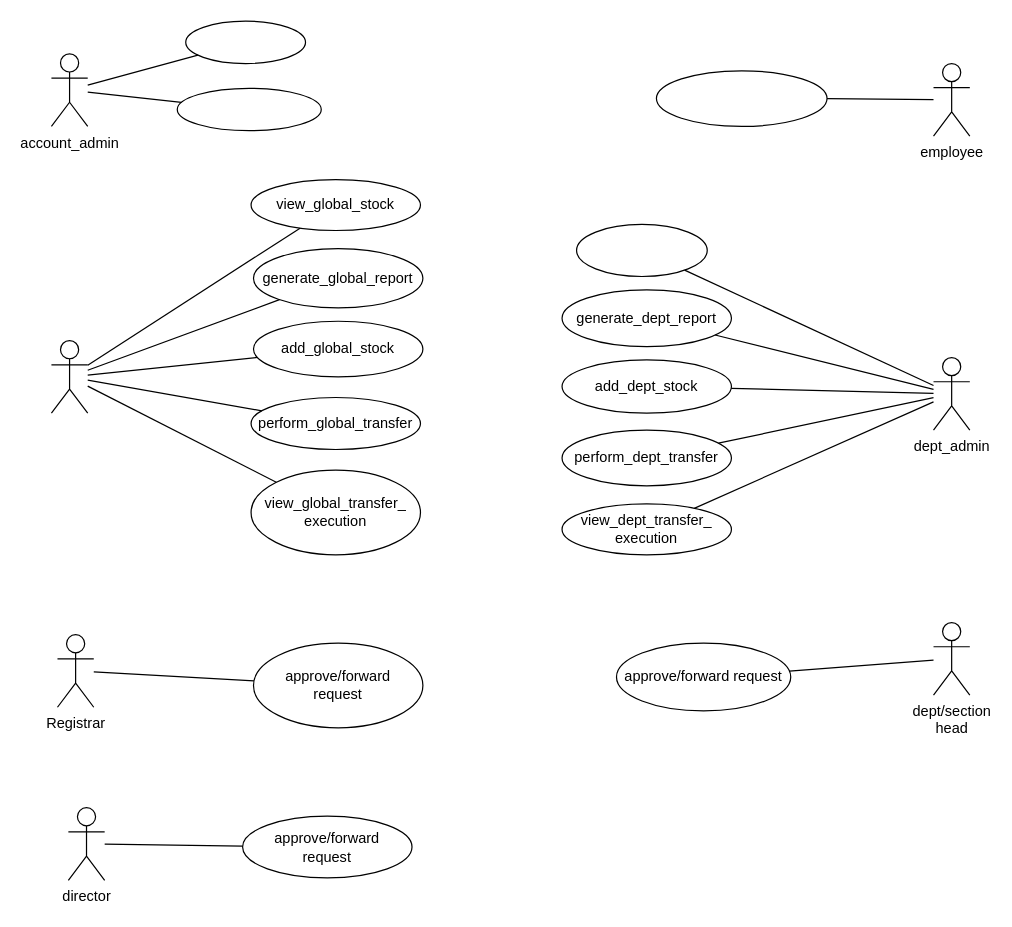
This 1012x927 diagram has some shape labels left out. Here are the shapes that lost their labels. From the top down, the centre of each, then its label:
(245,42): audit_bill
(248,109): process_bill
(741,98): create_proposal
(641,249): view_dept_stock
(69,376): PS_admin
